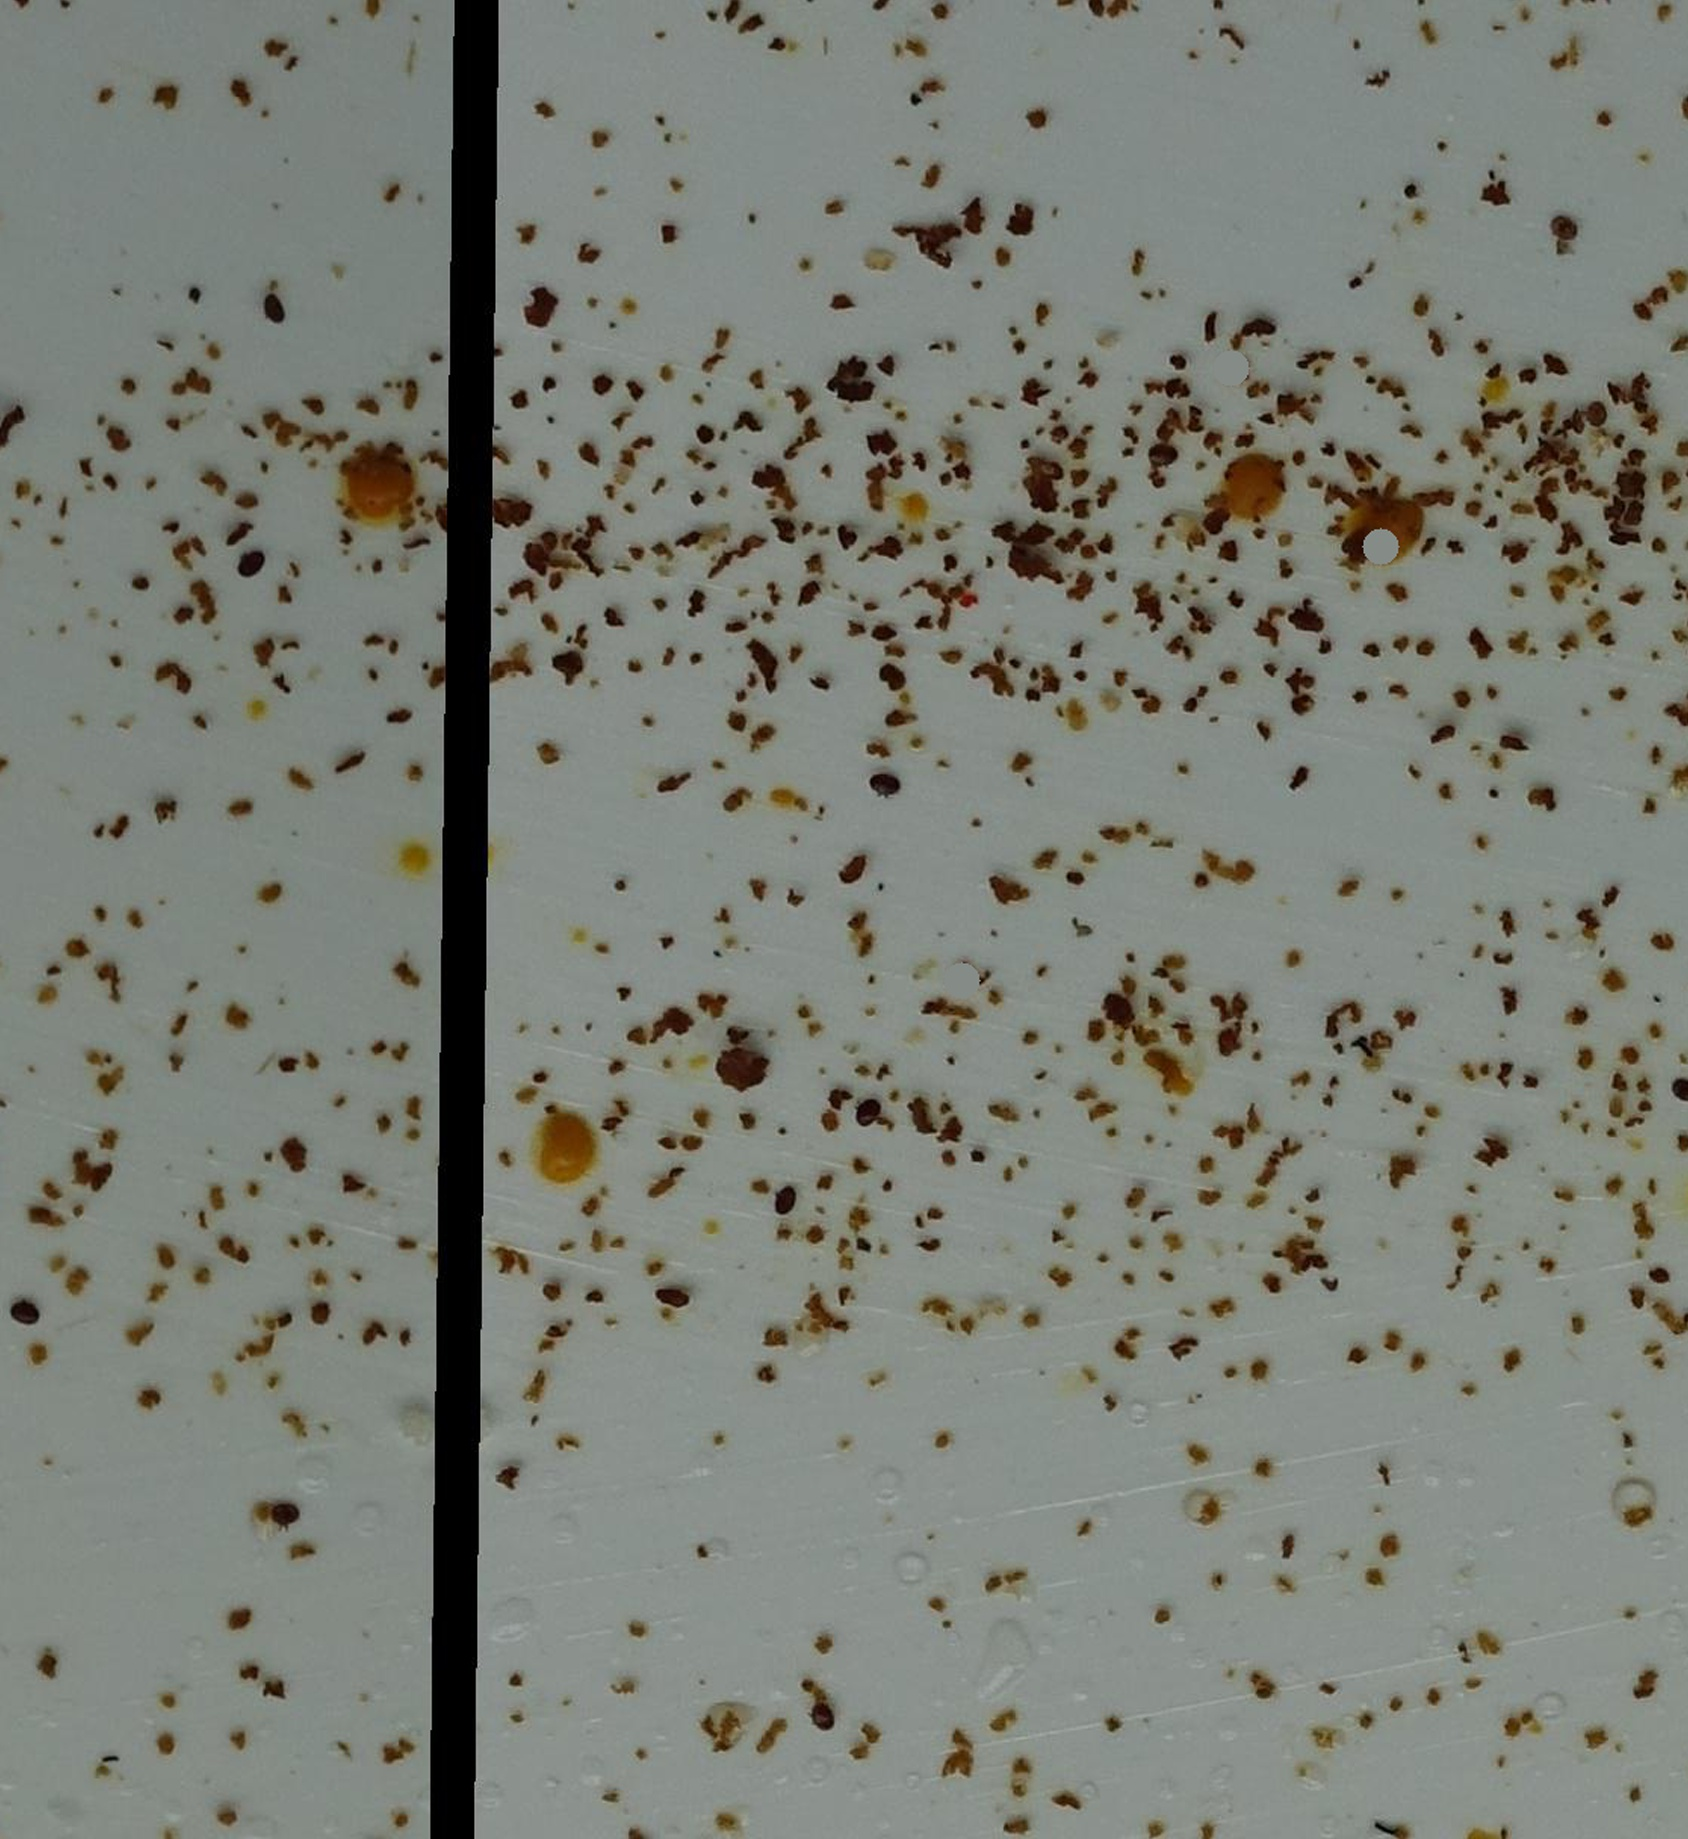Varroa: (1577, 400, 1611, 434), (866, 772, 898, 804), (770, 1189, 801, 1221), (269, 1499, 299, 1530), (855, 1102, 886, 1133), (1550, 208, 1581, 239), (804, 1708, 833, 1736), (259, 292, 288, 320), (237, 551, 264, 580), (14, 1298, 42, 1326), (1147, 450, 1174, 477)
